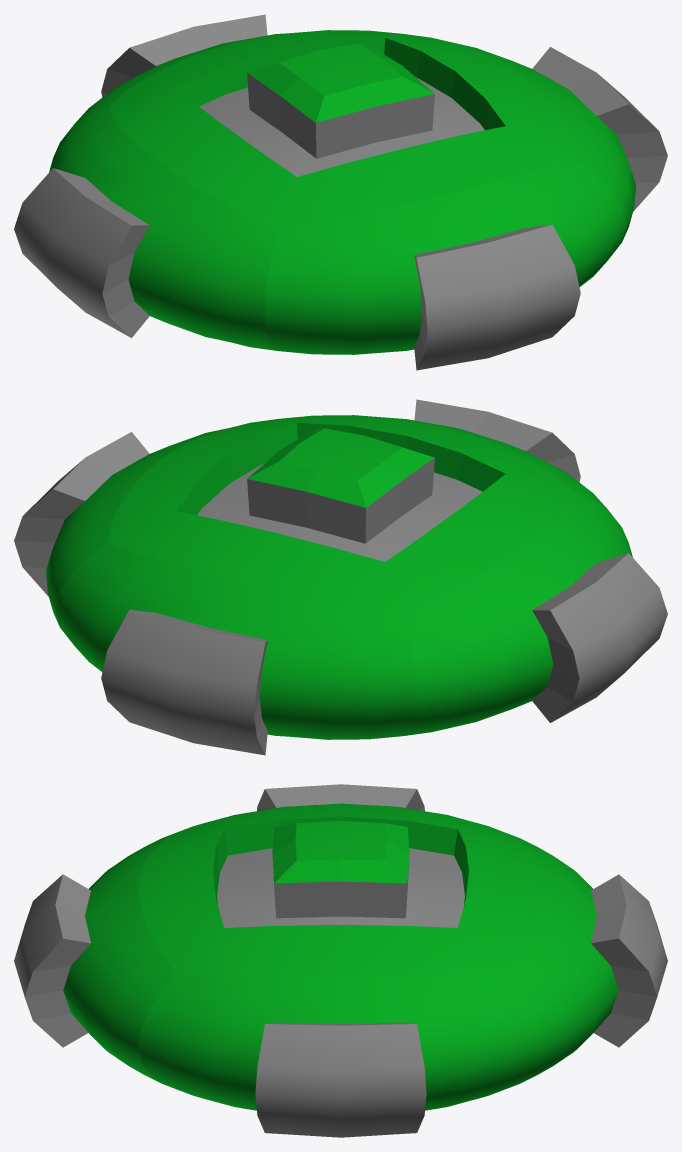
Rendered from ufo.FBX.
The picture shows the model from 3 angles, top to bottom: view 1: azimuth 30°, elevation 25°; view 2: azimuth 150°, elevation 25°; view 3: azimuth 270°, elevation 25°; orthographic projection. The views are drawn at different scales.
Visible parts, largest first — view 1: Box001; view 2: Box001; view 3: Box001.
Boxes of the visible parts, bbox=[...] form: Box001: bbox=[14, 14, 667, 370]; Box001: bbox=[14, 399, 667, 755]; Box001: bbox=[14, 784, 667, 1137].
Size of the model in its own units: 160 by 66.44 by 160.
